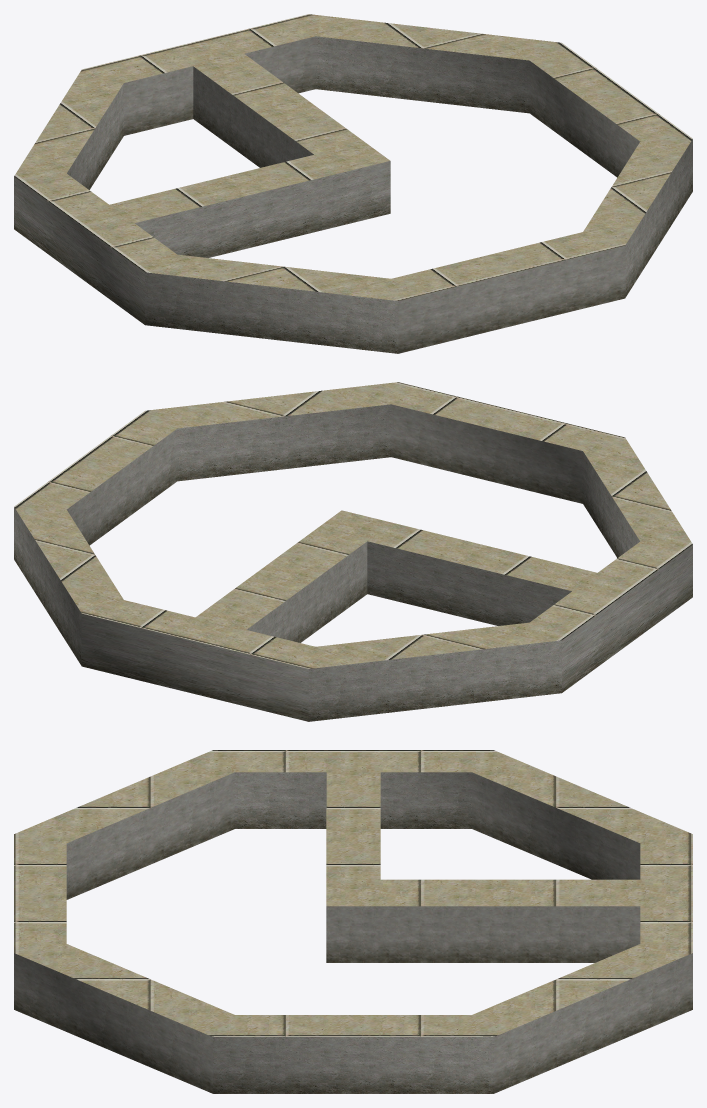
Rendered from WP_TOP_L.fbx.
3 views of the same model, one above another, from view 1: azimuth 30°, elevation 25°; view 2: azimuth 150°, elevation 25°; view 3: azimuth 270°, elevation 25° (orthographic). The views are drawn at different scales.
Parts seen in each view (by area): view 1: WP_TOP_L; view 2: WP_TOP_L; view 3: WP_TOP_L.
Part boxes in pixels (bbox=[...]): WP_TOP_L: bbox=[14, 14, 692, 353]; WP_TOP_L: bbox=[14, 382, 692, 721]; WP_TOP_L: bbox=[14, 750, 692, 1093].
Bounding box in the file's own units: 10847 × 1000 × 10848.
Materials: 2 (2 with a texture image).
